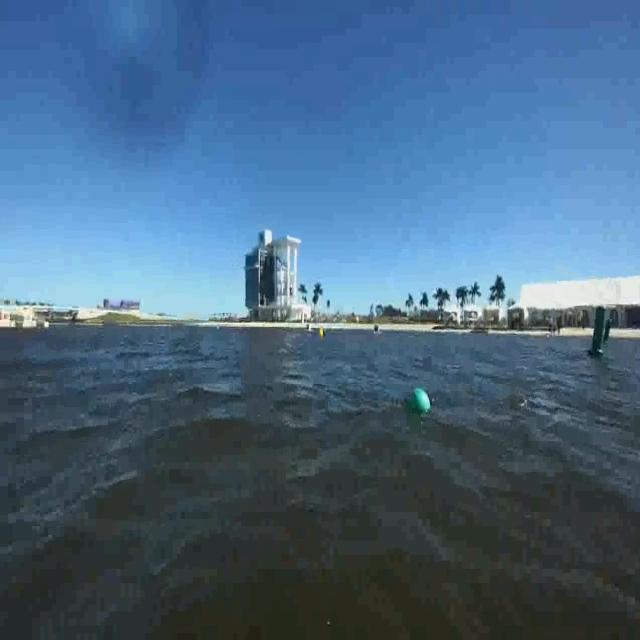green-buoy: (407, 388, 430, 414)
green-column-buoy: (588, 307, 612, 358), (606, 320, 610, 356)
yellow-buoy: (318, 326, 325, 340)
